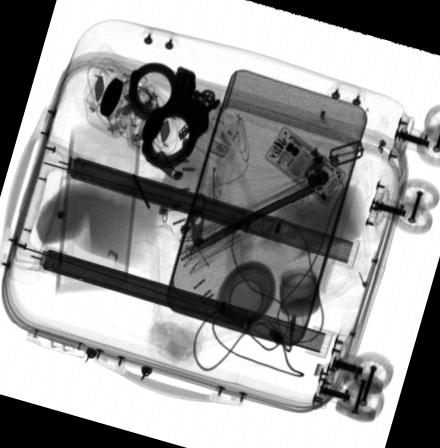HandCuffs: (126, 59, 223, 170)
